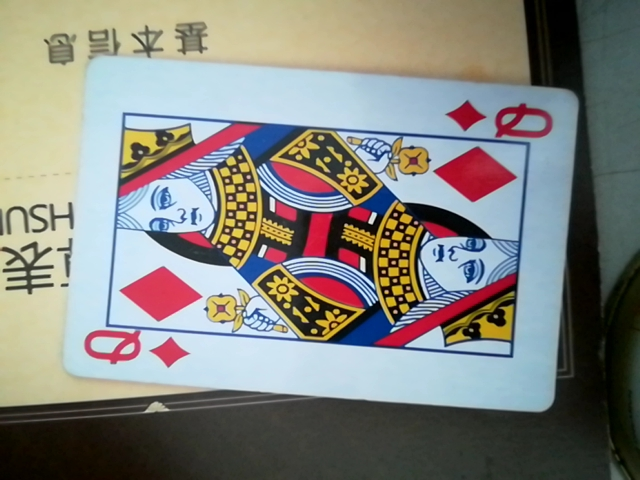fk q: (57, 59, 578, 417)
